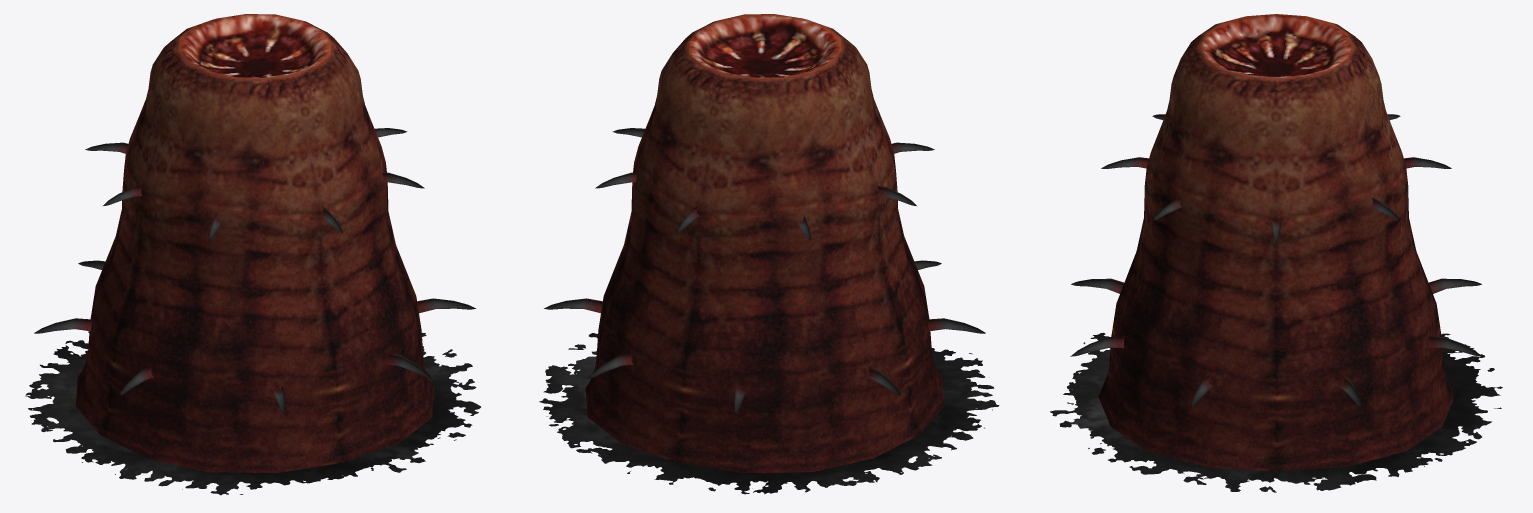
File: barnacle.obj
The picture shows the model from 3 angles, left to right: view 1: azimuth 30°, elevation 25°; view 2: azimuth 150°, elevation 25°; view 3: azimuth 270°, elevation 25°; orthographic projection.
Visible parts, largest first — view 1: barnacle; view 2: barnacle; view 3: barnacle.
Part boxes in pixels (<box>): barnacle: <box>25,14,480,495</box>; barnacle: <box>539,14,999,494</box>; barnacle: <box>1050,14,1502,492</box>.
Size of the model in its own units: 0.6995 by 0.5587 by 0.6995.
